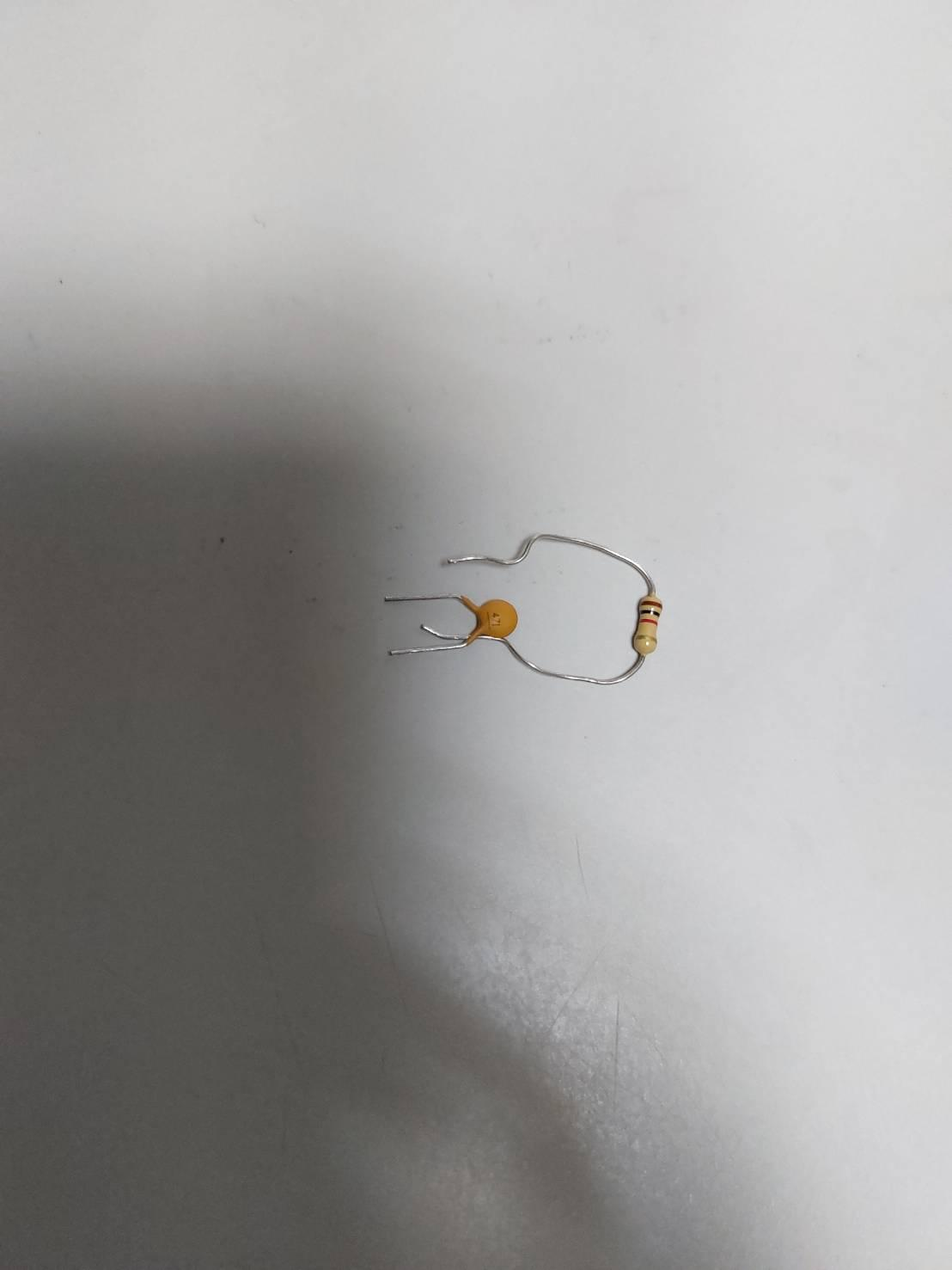resistor: (630, 597, 666, 657)
